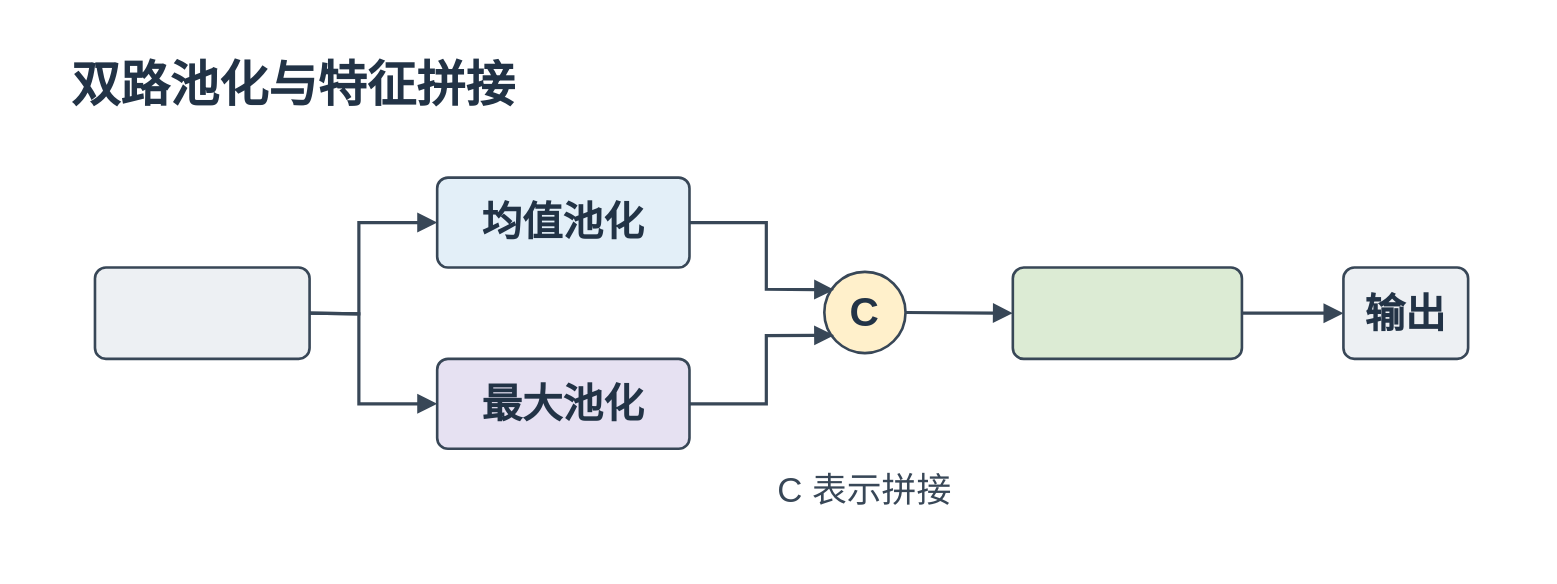
This 1557x584 diagram has some shape labels left out. The centre of each missing label's shape, as x and y in pixels:
"线性投影" belongs at pixel 1127 312.
"输入特征" belongs at pixel 201 312.
